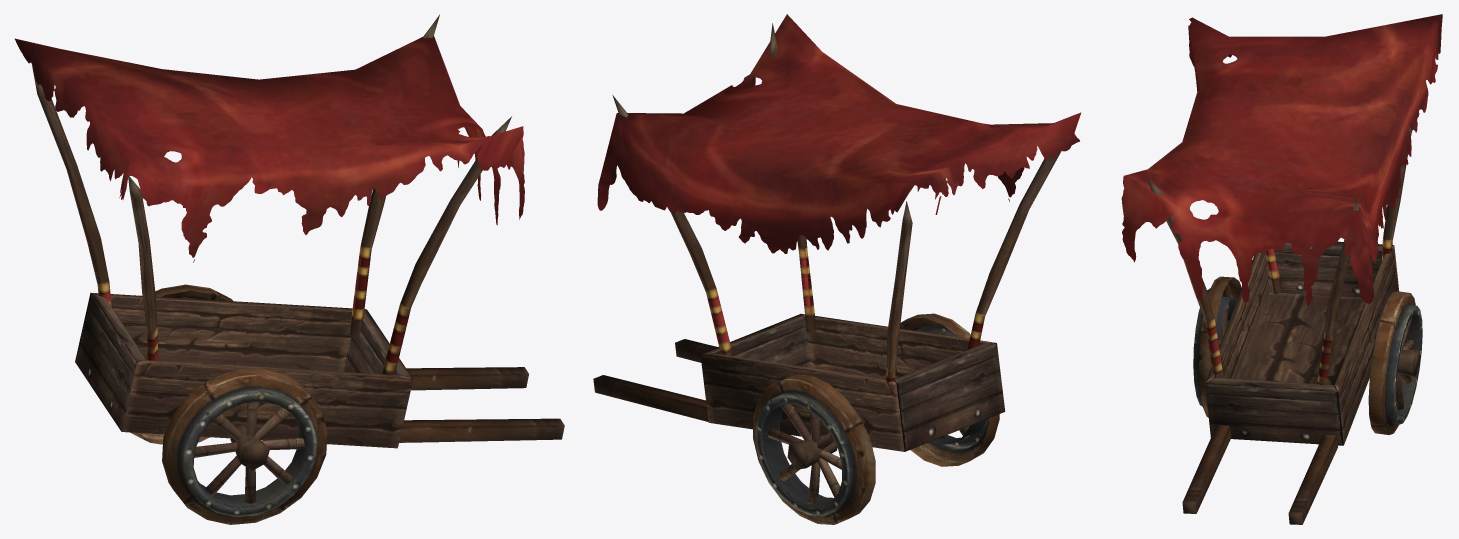
The model's file is Props_H.fbx.
3 renders of one model, left to right at view 1: azimuth 30°, elevation 25°; view 2: azimuth 150°, elevation 25°; view 3: azimuth 270°, elevation 25°, orthographic. The views are drawn at different scales.
Parts seen in each view (by area): view 1: Props_H__4_, Props_H2; view 2: Props_H2, Props_H__4_; view 3: Props_H2, Props_H__4_.
Boxes of the visible parts, x1,y1,x2,y2 form: Props_H__4_: (31,14,564,524); Props_H2: (15,35,524,262); Props_H2: (597,14,1081,253); Props_H__4_: (593,23,1061,524); Props_H2: (1121,14,1442,306); Props_H__4_: (1146,124,1422,524).
Bounding box in the file's own units: 0.9483 × 0.8039 × 0.6658.
Materials: 2 (2 with a texture image).
